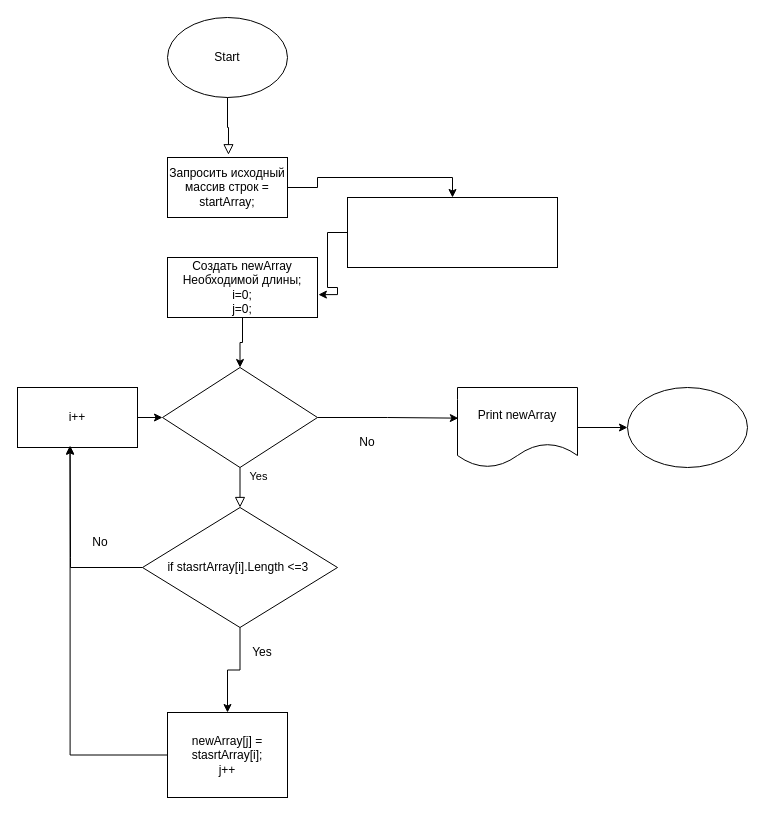
Some shapes in this 765 by 815 pixel diagram are drawn without their labels. Each missing label, with the centre of its shape:
"i < stasrtArray.Length" goes at point 240,417.
"STOP" goes at point 687,427.
"Посчитать количество элементов массива длиной меньше 3 символов" goes at point 452,232.
